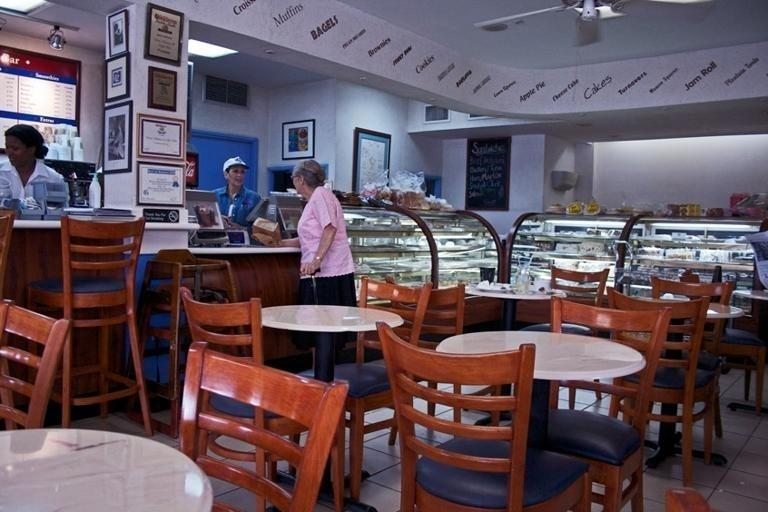clean: (0, 398, 228, 512), (428, 317, 663, 397), (238, 289, 412, 342)
dirty: (462, 262, 581, 304)
